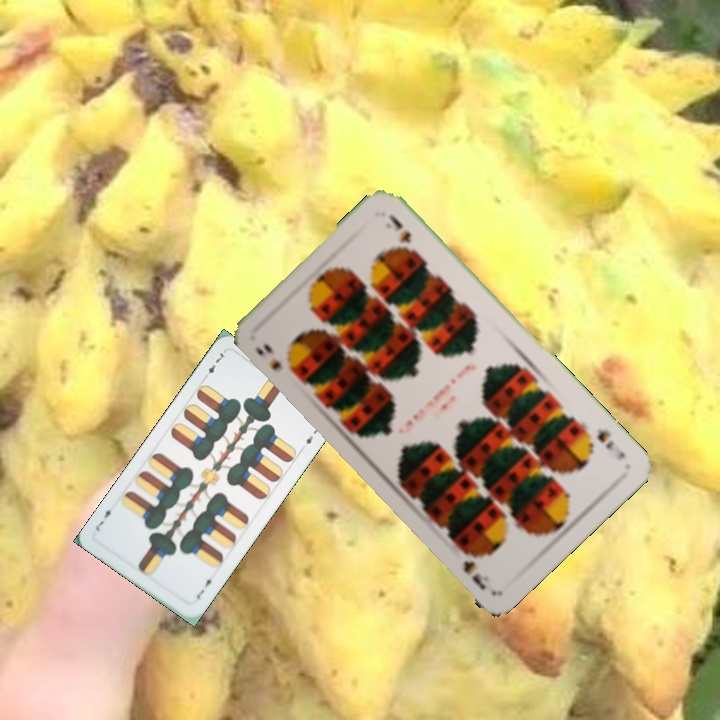E7: (199, 348, 227, 383), (192, 572, 217, 602)
S9: (593, 424, 628, 462), (250, 338, 286, 373)
